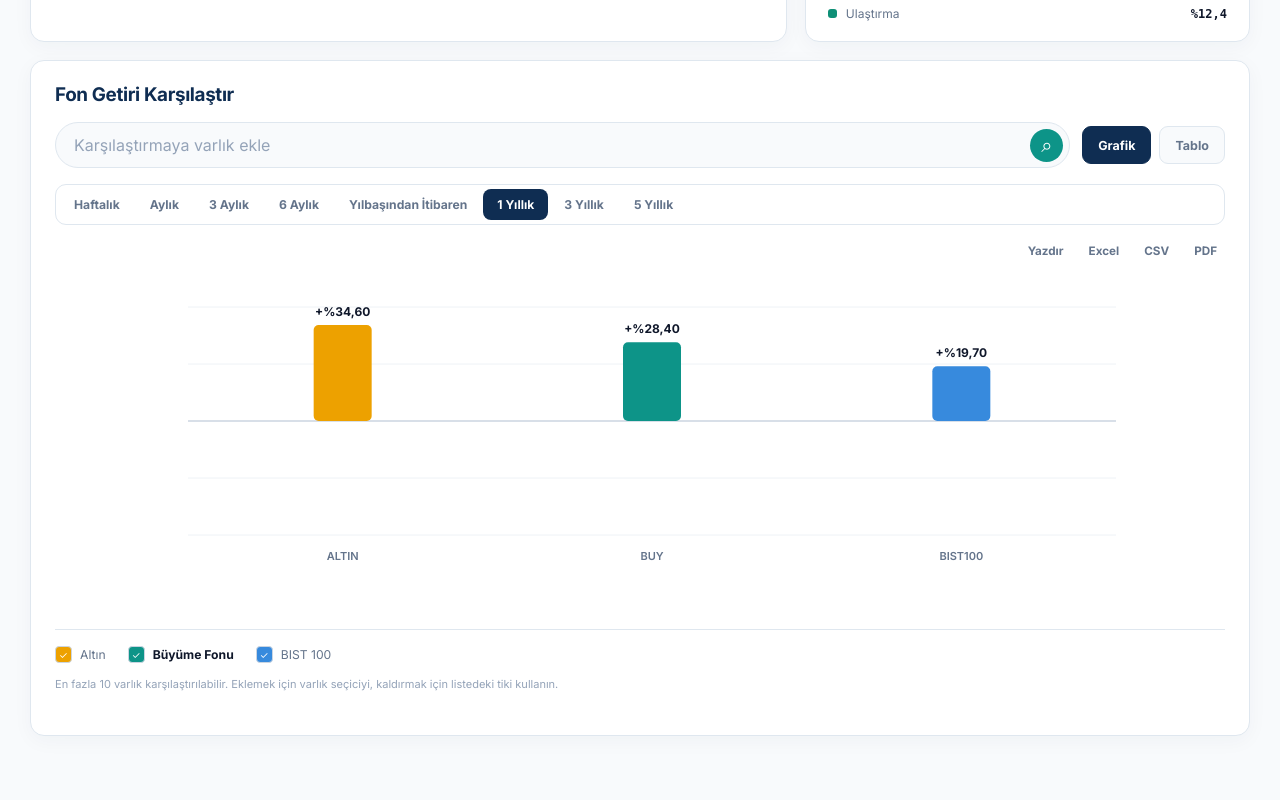
FundMonitoringView › karşılaştırma varlıklarını listeden çıkarıp arama penceresinden ekler
(page scrolled)
Click the checkbox labelled "Altın" at [80, 654], box top-left (55, 646), bottom-right (106, 663)
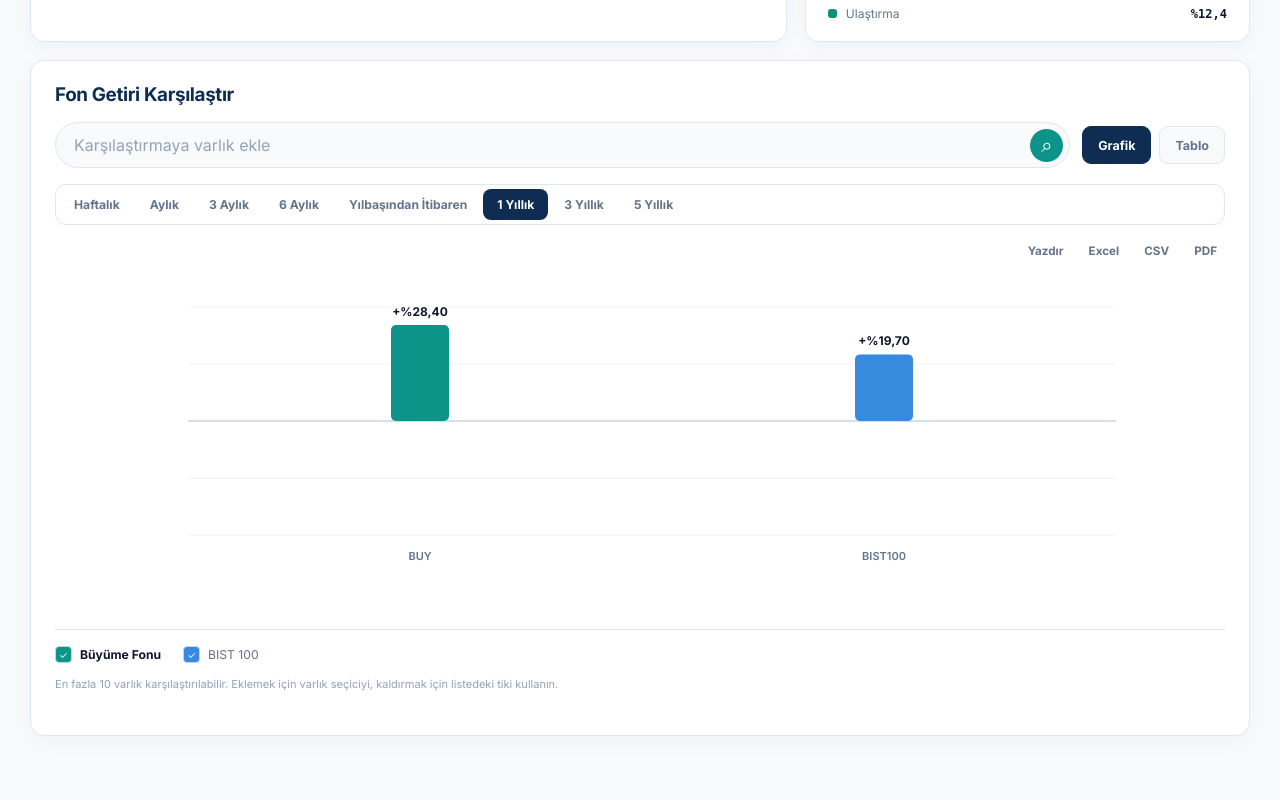
Check: the checkbox labelled "Altın" is gone
Click the button "Karşılaştırmaya varlık ekle ⌕" at [172, 145], box top-left (55, 122), bottom-right (1070, 168)
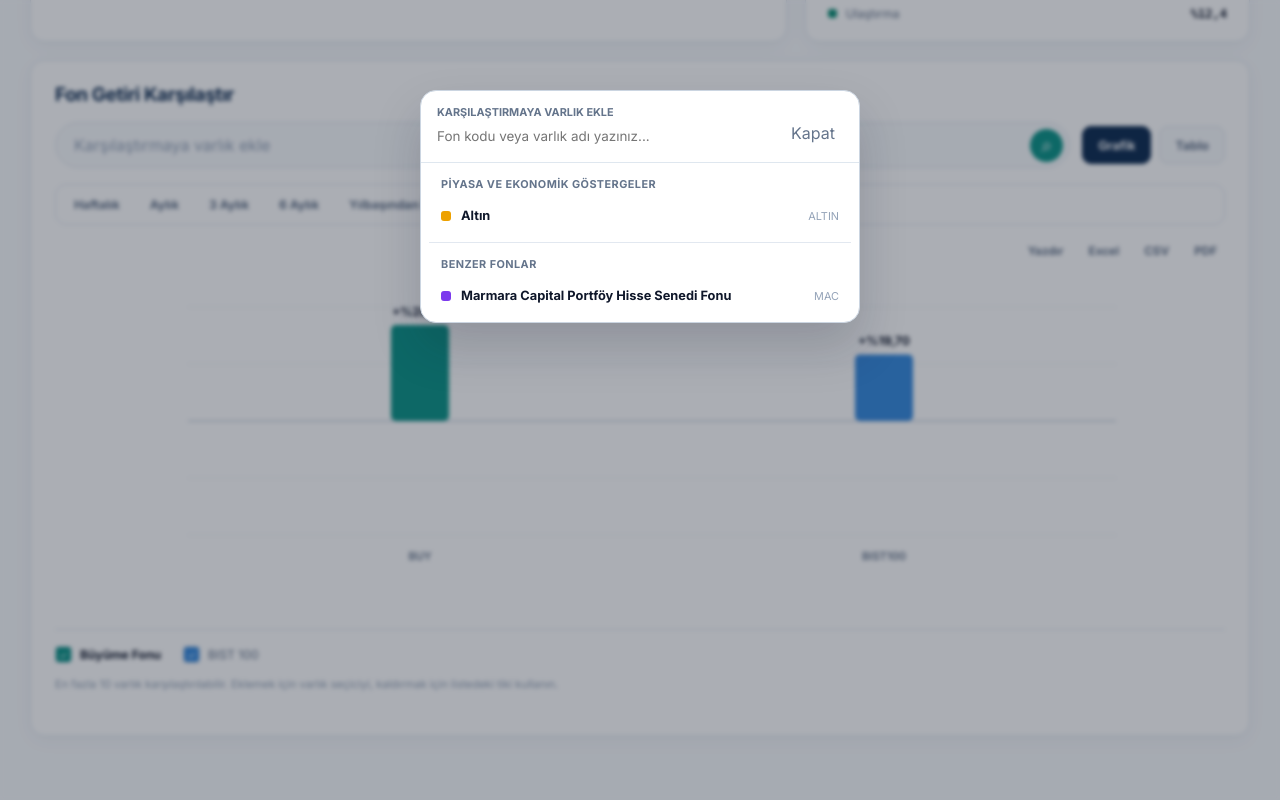
Type "ALT" into the field with placeholder "Fon kodu veya varlık adı yazınız..." at [605, 136], box top-left (437, 124), bottom-right (773, 148)
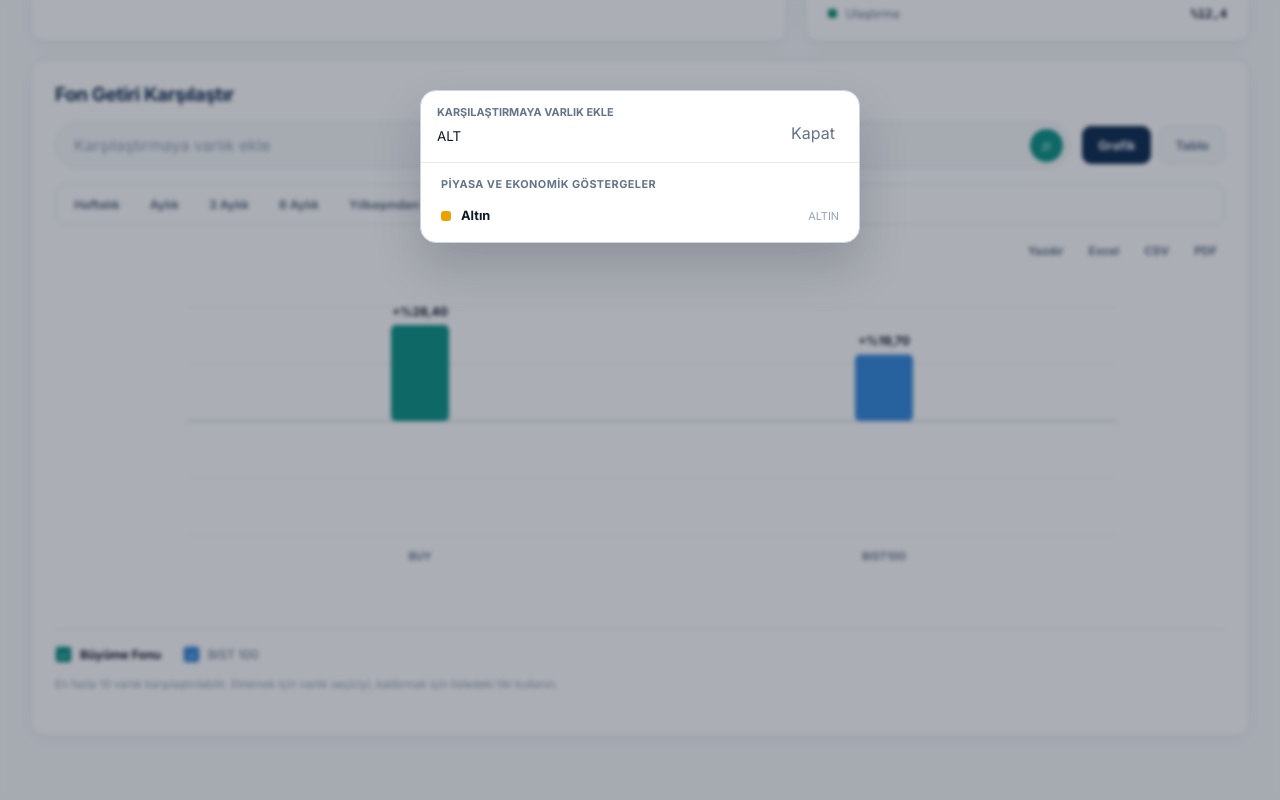
Click the button "Altın ALTIN" at [824, 216], box top-left (429, 197), bottom-right (851, 234)
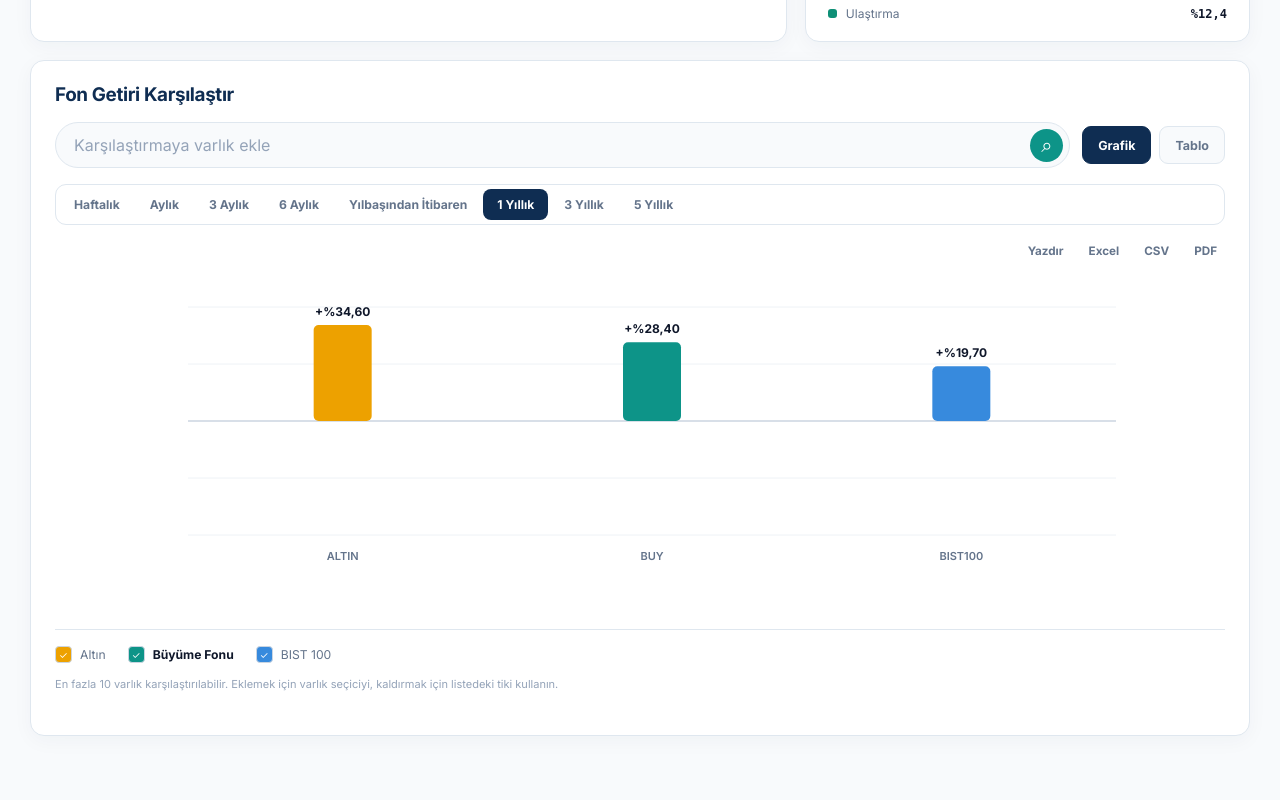
Check: the checkbox labelled "Altın" is checked, box top-left (55, 646), bottom-right (106, 663)
